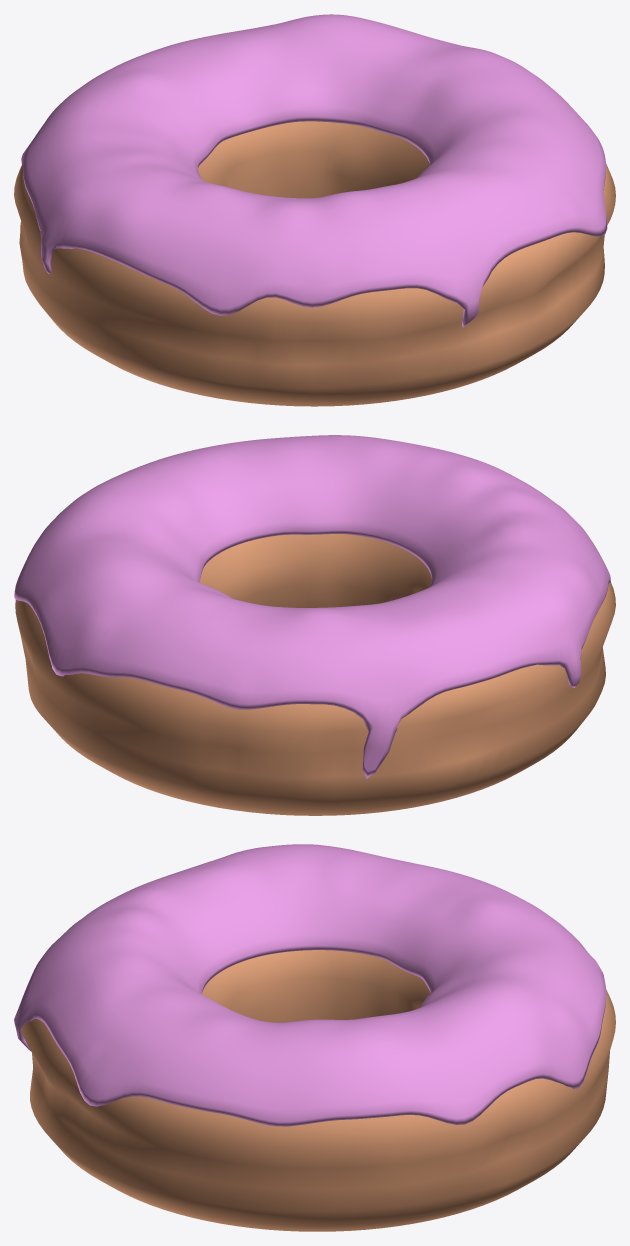
File: donut.fbx
3 views of the same model, one above another, from view 1: azimuth 30°, elevation 25°; view 2: azimuth 150°, elevation 25°; view 3: azimuth 270°, elevation 25° (orthographic).
Visible parts, largest first — view 1: icing.002, donut; view 2: icing.002, donut; view 3: icing.002, donut.
Boxes of the visible parts, bbox=[...] form: icing.002: bbox=[21, 14, 607, 327]; donut: bbox=[14, 121, 615, 406]; icing.002: bbox=[14, 435, 610, 778]; donut: bbox=[15, 534, 615, 815]; icing.002: bbox=[14, 844, 606, 1126]; donut: bbox=[21, 950, 615, 1231].
Size of what is drawn, in the model's own units: 14.95 by 5.41 by 14.87.
